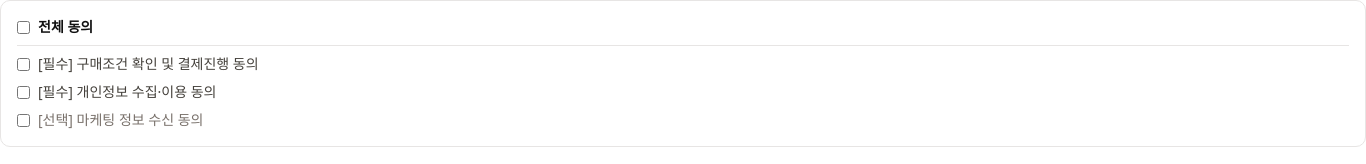
Test: TermsAgreement component › 모두 체크 후 전체 동의 클릭 시 모두 해제된다
The image size is (1366, 164).
Click the checkbox labelled "전체 동의" at {"x": 24, "y": 27}, box [17,20,30,34]
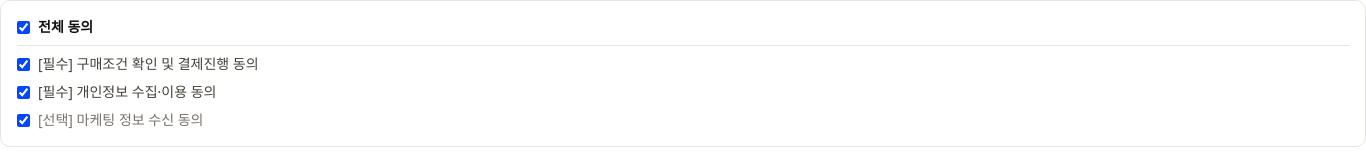
Click the checkbox labelled "전체 동의" at {"x": 24, "y": 27}, box [17,20,30,34]
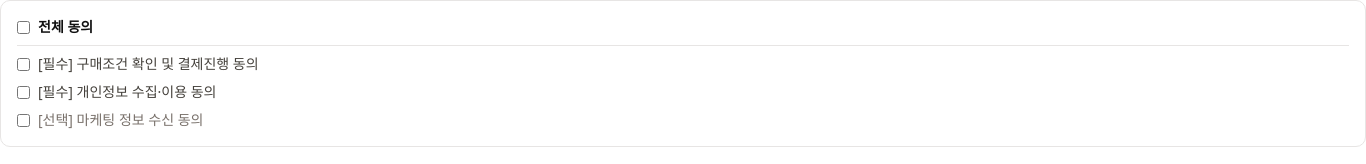
Now the checkbox labelled "전체 동의" is not checked, box [17,20,30,34]
Now the checkbox labelled "[필수] 구매조건 확인 및 결제진행 동의" is not checked, box [17,58,30,70]
Now the checkbox labelled "[필수] 개인정보 수집·이용 동의" is not checked, box [17,86,30,98]
